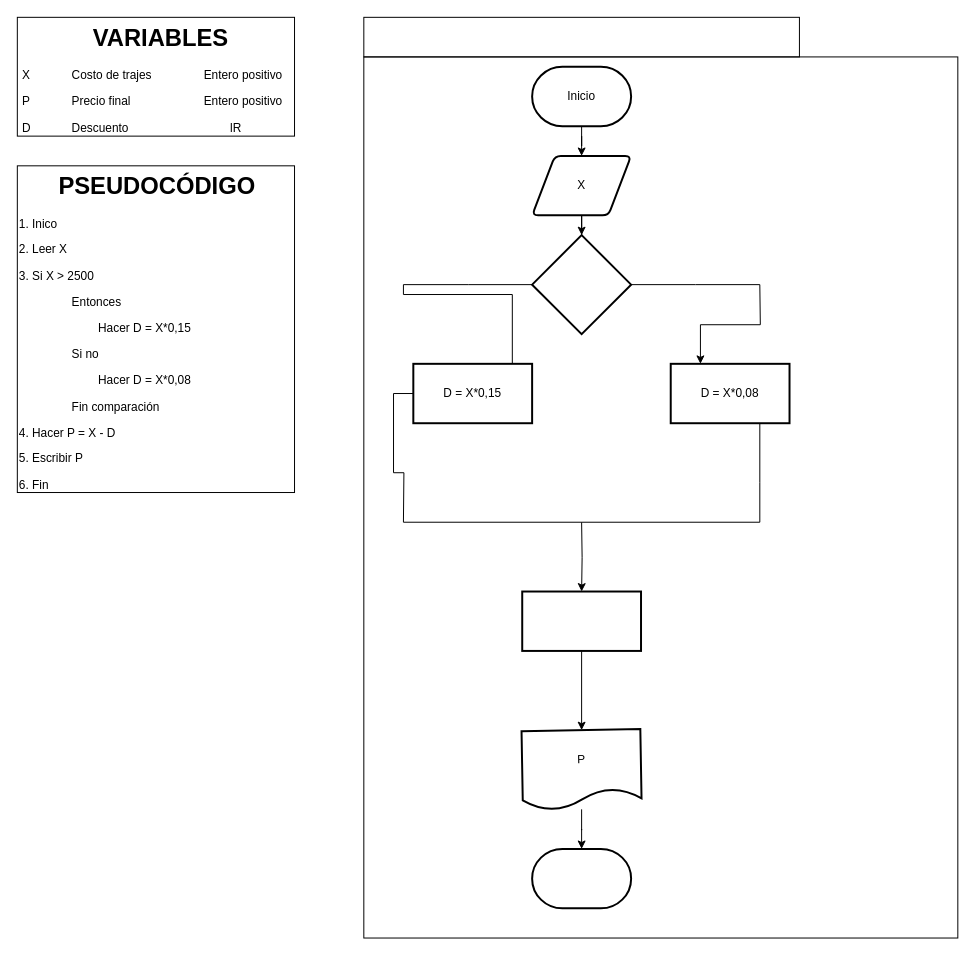
Some shapes in this 975 by 955 pixel diagram are drawn without their labels. Here are the shapes that lost their labels. From the top down, the box of each, then its label:
(363, 16, 799, 57): DIAGRAMA DE FLUJO
(531, 234, 632, 335): X > 2500
(521, 590, 642, 651): P = X - D
(531, 847, 632, 909): Fin
